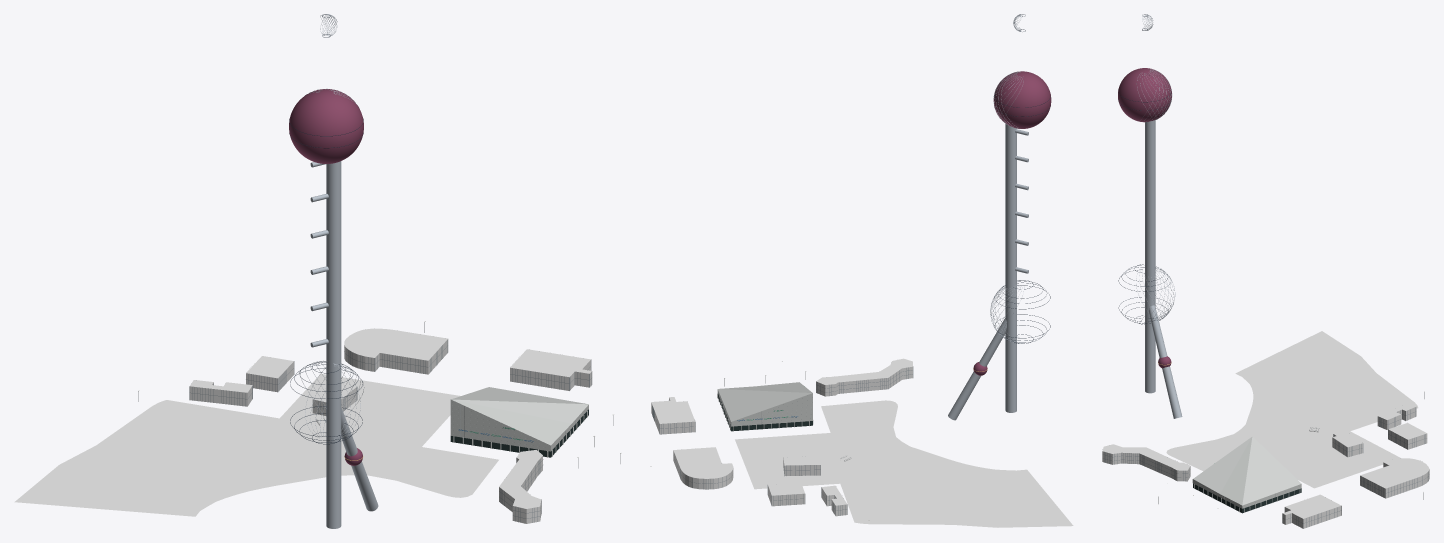
3 renders of one model, left to right at view 1: azimuth 30°, elevation 25°; view 2: azimuth 150°, elevation 25°; view 3: azimuth 270°, elevation 25°, orthographic. The views are drawn at different scales.
Visible parts, largest first — view 1: 0_0_v02 草地, 0_0_珍珠白 · 混凝土, 0_0_低层白色铝板, 0_0_v02 深灰屋面, 0_0_v02 米白石材, 0_0_球面 · 紫灰玻璃, 0_0_v02 铝合金幕墙框, 0_0_深灰金属, 0_0_低层内退橱窗; view 2: 0_0_v02 草地, 0_0_珍珠白 · 混凝土, 0_0_v02 深灰屋面, 0_0_低层白色铝板, 0_0_v02 米白石材, 0_0_球面 · 紫灰玻璃, 0_0_v02 铝合金幕墙框, 0_0_深灰金属, 0_0_低层内退橱窗; view 3: 0_0_v02 草地, 0_0_珍珠白 · 混凝土, 0_0_低层白色铝板, 0_0_v02 米白石材, 0_0_v02 深灰屋面, 0_0_球面 · 紫灰玻璃, 0_0_v02 铝合金幕墙框, 0_0_低层内退橱窗, 0_0_深灰金属.
Part boxes in pixels (x1,y1,x2,y2): 0_0_v02 草地: [14, 374, 498, 516]; 0_0_珍珠白 · 混凝土: [300, 14, 378, 528]; 0_0_低层白色铝板: [450, 387, 588, 457]; 0_0_v02 深灰屋面: [190, 328, 591, 508]; 0_0_v02 米白石材: [189, 339, 592, 523]; 0_0_球面 · 紫灰玻璃: [289, 89, 363, 465]; 0_0_v02 铝合金幕墙框: [189, 340, 591, 522]; 0_0_深灰金属: [289, 14, 363, 444]; 0_0_低层内退橱窗: [450, 409, 588, 457]; 0_0_v02 草地: [735, 400, 1073, 527]; 0_0_珍珠白 · 混凝土: [948, 14, 1028, 420]; 0_0_v02 深灰屋面: [651, 358, 912, 505]; 0_0_低层白色铝板: [717, 382, 813, 431]; 0_0_v02 米白石材: [651, 366, 912, 516]; 0_0_球面 · 紫灰玻璃: [973, 71, 1051, 375]; 0_0_v02 铝合金幕墙框: [652, 366, 913, 515]; 0_0_深灰金属: [994, 14, 1050, 343]; 0_0_低层内退橱窗: [718, 394, 812, 431]; 0_0_v02 草地: [1166, 331, 1418, 488]; 0_0_珍珠白 · 混凝土: [1136, 14, 1182, 418]; 0_0_低层白色铝板: [1193, 436, 1301, 512]; 0_0_v02 米白石材: [1102, 406, 1429, 528]; 0_0_v02 深灰屋面: [1102, 403, 1429, 518]; 0_0_球面 · 紫灰玻璃: [1118, 68, 1171, 368]; 0_0_v02 铝合金幕墙框: [1102, 407, 1429, 528]; 0_0_低层内退橱窗: [1193, 483, 1301, 513]; 0_0_深灰金属: [1118, 14, 1171, 324].
Size of the model in its own units: 390 by 351 by 272.
